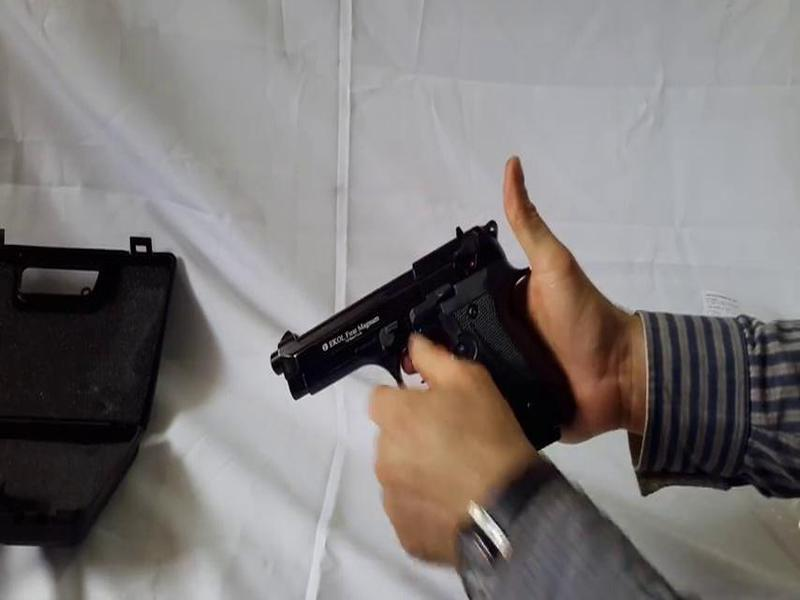Pistola: (255, 231, 586, 477)
